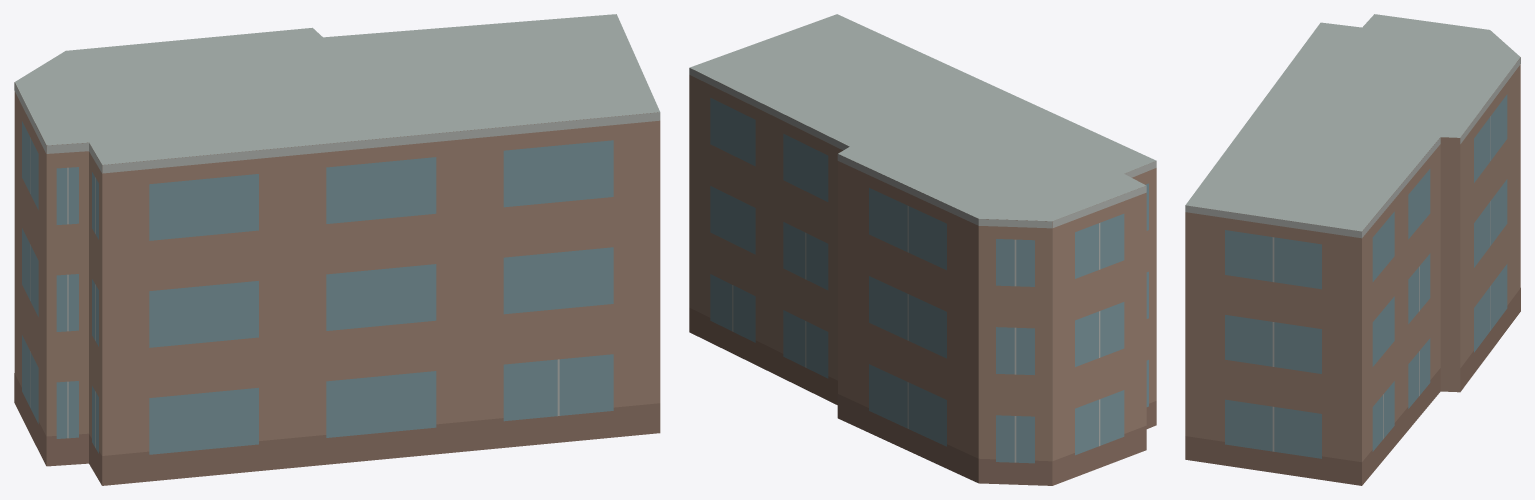
File: survey-upis-32668378.glb
The picture shows the model from 3 angles, left to right: view 1: azimuth 30°, elevation 25°; view 2: azimuth 150°, elevation 25°; view 3: azimuth 270°, elevation 25°; orthographic projection. The views are drawn at different scales.
Parts seen in each view (by area): view 1: survey-upis-32668378.tmp; view 2: survey-upis-32668378.tmp; view 3: survey-upis-32668378.tmp.
Boxes of the visible parts, <box> form: survey-upis-32668378.tmp: <box>14,14,660,485</box>; survey-upis-32668378.tmp: <box>689,14,1156,485</box>; survey-upis-32668378.tmp: <box>1185,14,1520,485</box>.
Size of the model in its own units: 16.79 by 9.15 by 10.95.
